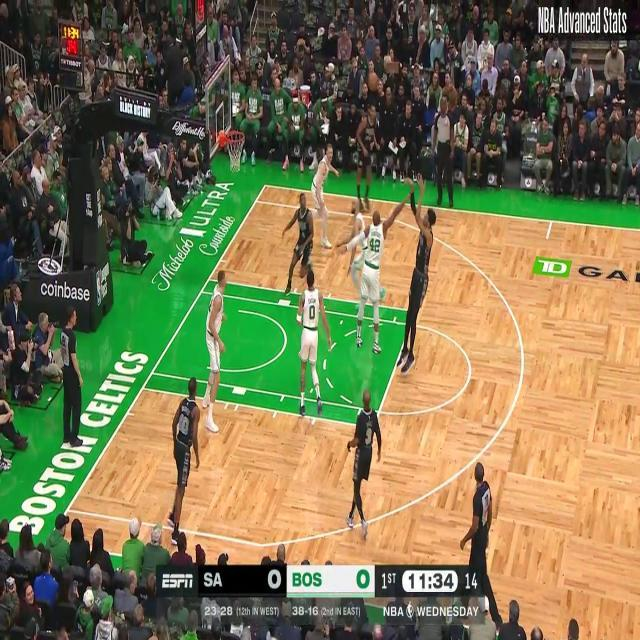ball: (366, 64, 379, 96)
player: (397, 171, 437, 376), (358, 192, 400, 364), (340, 198, 386, 352), (346, 388, 384, 542), (294, 268, 332, 418), (170, 376, 202, 552), (349, 101, 394, 212), (200, 268, 228, 434), (280, 190, 315, 296), (310, 140, 340, 250)
